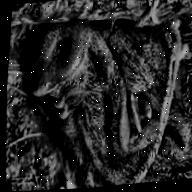boar: (3, 8, 192, 192)
